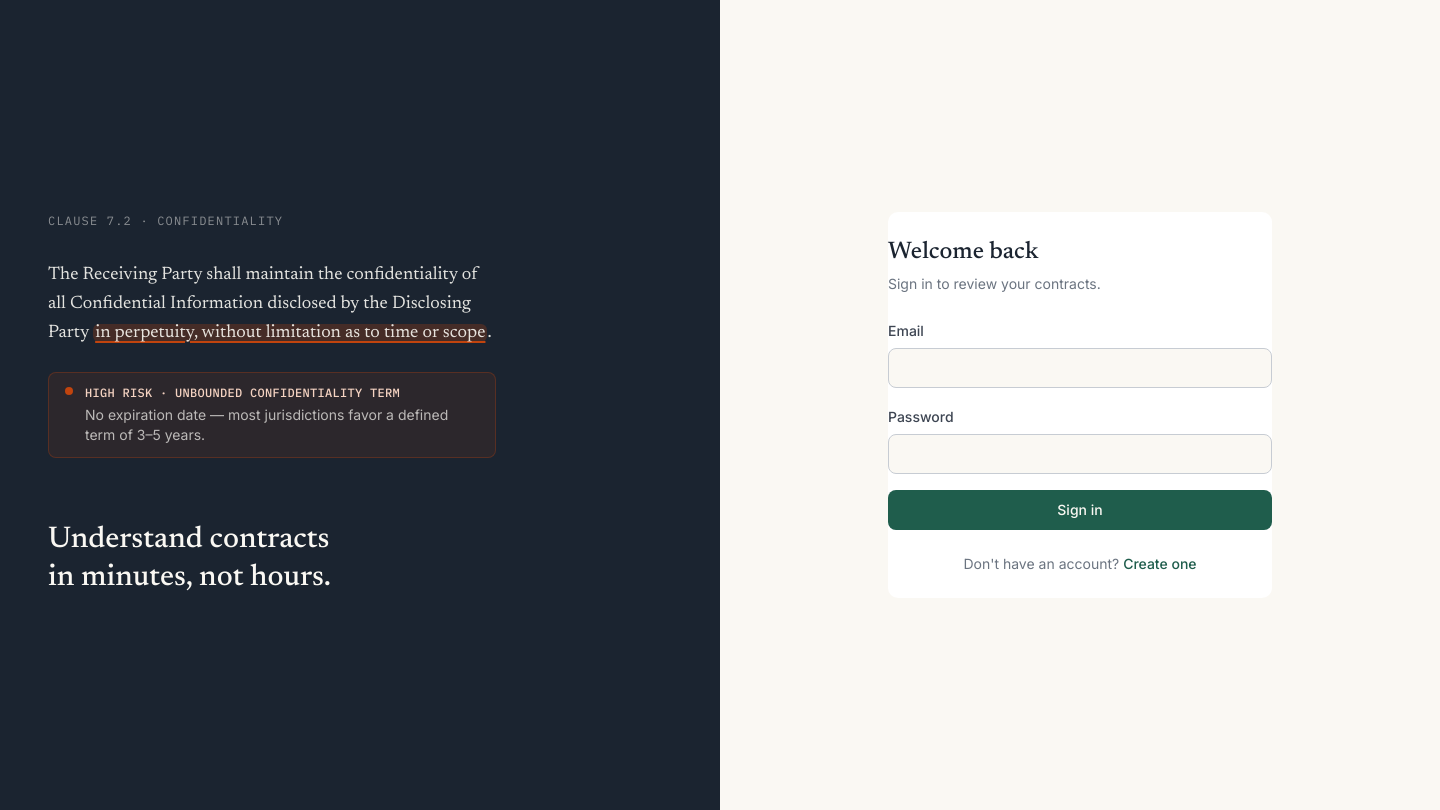
Test: LoginPage › shows the server's error message on failed login
Type "test@example.com" into the field labelled "Email" at (1080, 368), box [888,348,1272,388]
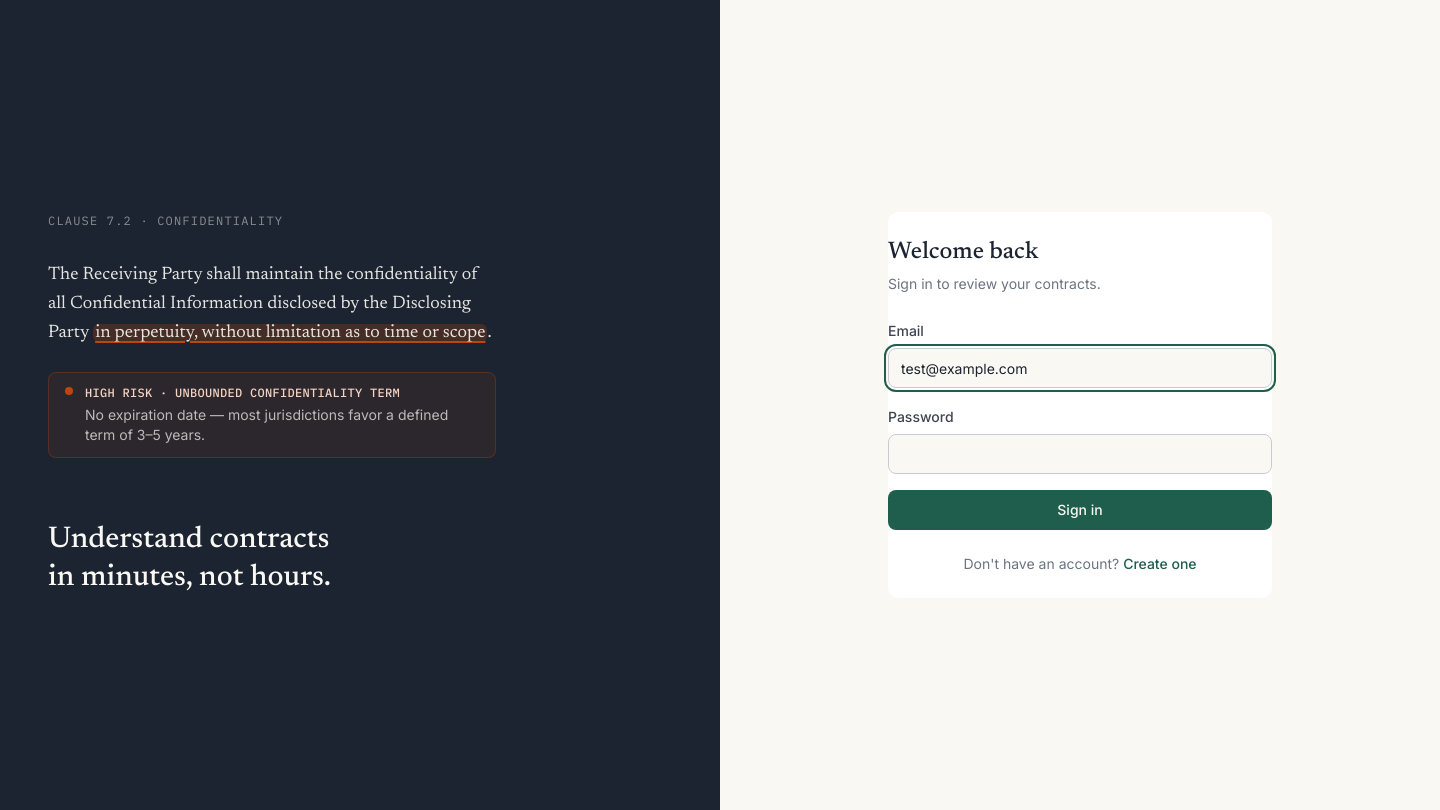
Type "wrongpassword" into the password field labelled "Password" at (1080, 454), box [888,434,1272,474]
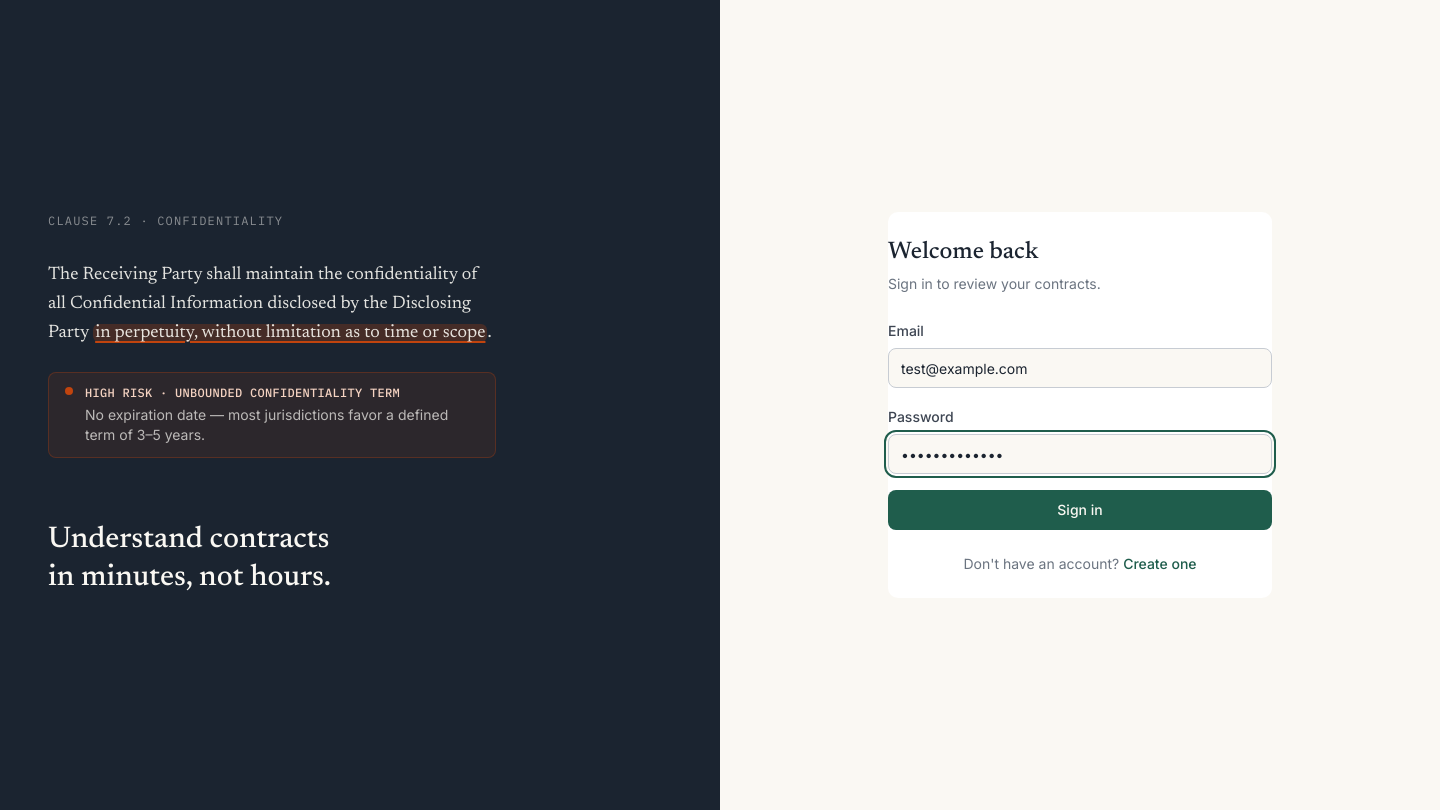
Click the button "Sign in" at (1080, 510), box [888,490,1272,530]
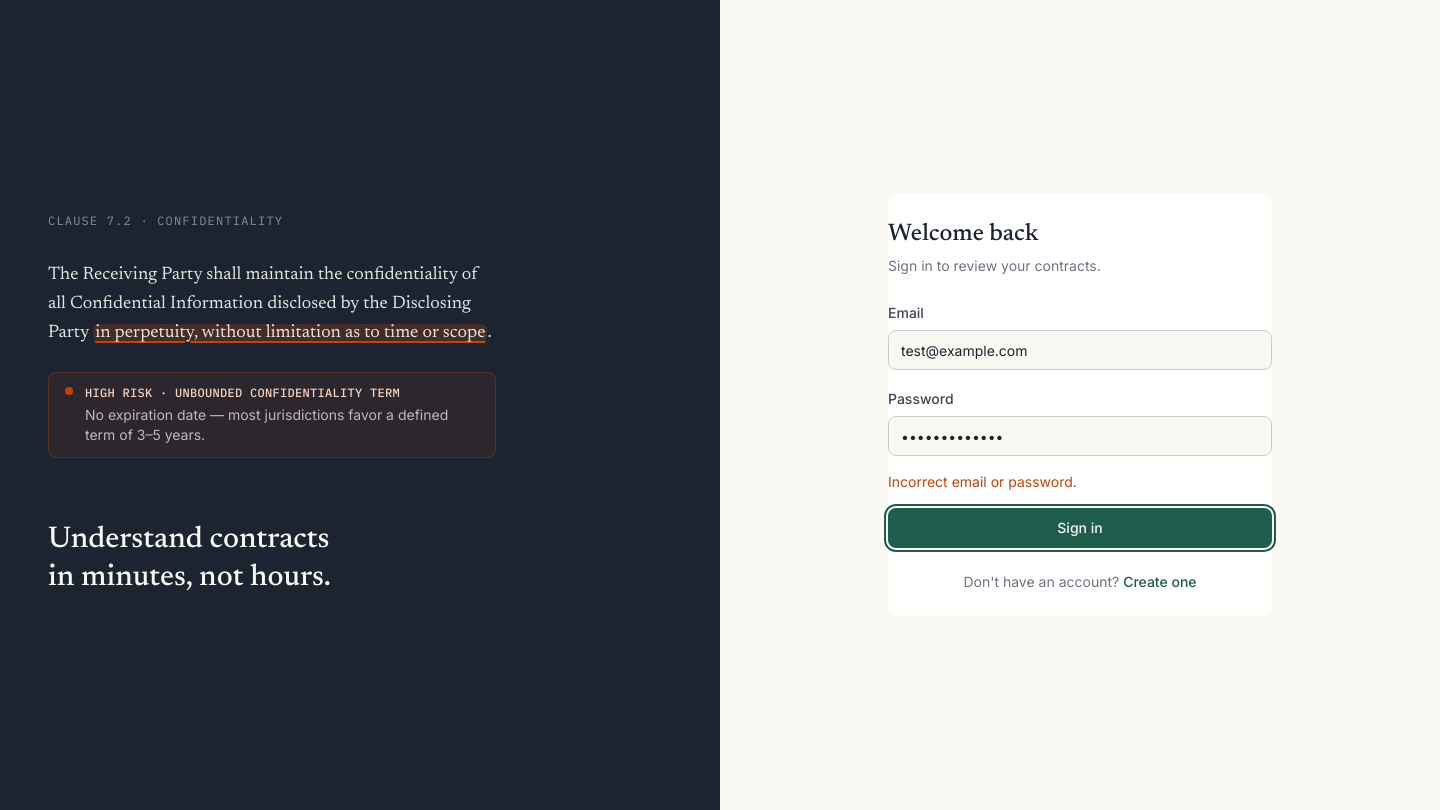
Expected: the message reads "Incorrect email or password.", [888,473,1077,490]
